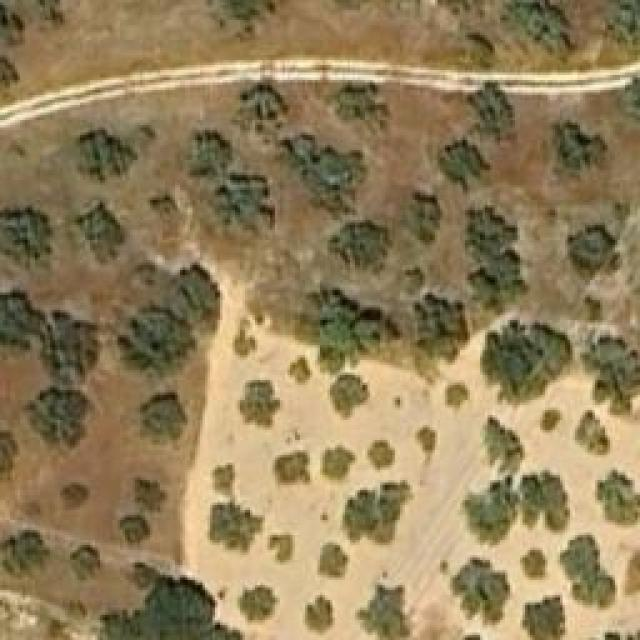Tree: (483, 320, 573, 405), (465, 205, 530, 315), (310, 285, 400, 355), (118, 308, 188, 381), (450, 555, 513, 633), (555, 532, 618, 610), (580, 335, 640, 415), (343, 480, 413, 543), (17, 388, 85, 451), (500, 0, 575, 55), (460, 480, 518, 550), (40, 315, 98, 383), (0, 205, 58, 270), (512, 470, 570, 535), (305, 145, 360, 213), (413, 290, 468, 355), (565, 223, 623, 283), (355, 575, 408, 640), (217, 172, 275, 230), (75, 203, 130, 263), (78, 128, 138, 183), (480, 415, 528, 480), (208, 503, 263, 556), (470, 83, 518, 143), (438, 138, 491, 191), (245, 82, 293, 140), (553, 123, 608, 173), (595, 468, 640, 528), (335, 223, 388, 273), (0, 300, 38, 360), (238, 380, 283, 430), (332, 85, 380, 130), (140, 393, 185, 438), (0, 533, 45, 578), (520, 597, 567, 640), (183, 133, 228, 176), (573, 410, 613, 458), (400, 193, 438, 243), (607, 0, 640, 57), (330, 375, 368, 418), (320, 443, 358, 483), (318, 543, 351, 588), (237, 582, 275, 620), (68, 545, 103, 583), (303, 595, 336, 635), (218, 0, 281, 20), (130, 478, 165, 513), (275, 450, 310, 483), (468, 32, 498, 70), (428, 0, 488, 18), (518, 548, 548, 581), (210, 463, 240, 496), (122, 513, 150, 546), (268, 535, 298, 565), (367, 440, 395, 470), (442, 378, 470, 408), (232, 330, 260, 358), (288, 355, 313, 385), (62, 483, 90, 508), (133, 560, 158, 588), (625, 75, 640, 120), (415, 425, 438, 453), (542, 410, 560, 430)
